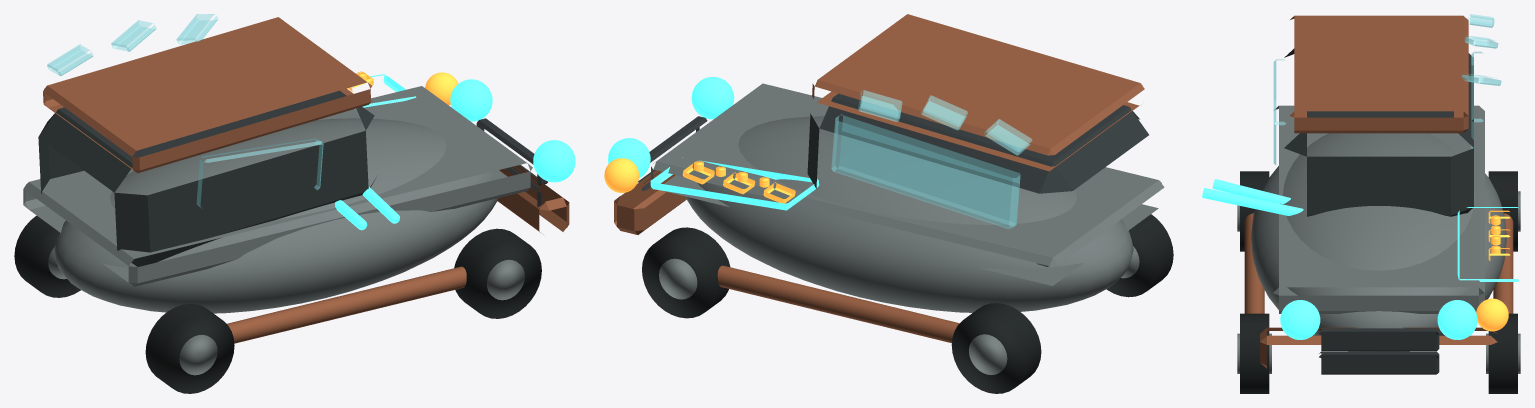
The model's file is vehicle_wreck.gltf.
3 views of the same model, side by side, from view 1: azimuth 30°, elevation 25°; view 2: azimuth 150°, elevation 25°; view 3: azimuth 270°, elevation 25° (orthographic). The views are drawn at different scales.
Visible parts, largest first — view 1: VehicleChassis, VehicleCabRoof, VehicleCab, VehicleLowerChassis, VehicleAxle01, VehicleWheel02, VehicleWheel03, VehicleWheel00, VehicleFrontBumper, VehicleHeadlampR, VehicleHeadlampL, VehicleWheelHub02 (+8 smaller); view 2: VehicleChassis, VehicleCabRoof, VehicleLowerChassis, VehicleCab, VehicleWindshield, VehicleAxle00, VehicleWheel00, VehicleWheel01, VehicleWheel02, VehicleFrontBumper, VehicleServicePanel, VehicleHeadlampR (+8 smaller); view 3: VehicleChassis, VehicleCabRoof, VehicleLowerChassis, VehicleCab, VehicleFrontGrilleLower, VehicleFrontGrilleUpper, VehicleWheel03, VehicleWheel01, VehicleFrontBumper, VehicleAxle01, VehicleHeadlampR, VehicleHeadlampL (+12 smaller).
Boxes of the visible parts, left/top/right/bottom form: VehicleChassis: left=54, top=118, right=499, bottom=313; VehicleCabRoof: left=43, top=17, right=372, bottom=173; VehicleCab: left=38, top=90, right=376, bottom=266; VehicleLowerChassis: left=23, top=86, right=532, bottom=286; VehicleAxle01: left=227, top=266, right=466, bottom=343; VehicleWheel02: left=145, top=303, right=234, bottom=393; VehicleWheel03: left=454, top=228, right=541, bottom=318; VehicleWheel00: left=14, top=215, right=80, bottom=297; VehicleFrontBumper: left=497, top=165, right=569, bottom=234; VehicleHeadlampR: left=533, top=140, right=575, bottom=182; VehicleHeadlampL: left=450, top=79, right=492, bottom=121; VehicleWheelHub02: left=179, top=334, right=217, bottom=375; VehicleChassis: left=686, top=116, right=1133, bottom=312; VehicleCabRoof: left=812, top=14, right=1144, bottom=171; VehicleLowerChassis: left=651, top=83, right=1164, bottom=285; VehicleCab: left=807, top=93, right=1148, bottom=266; VehicleWindshield: left=831, top=114, right=1020, bottom=229; VehicleAxle00: left=717, top=265, right=959, bottom=343; VehicleWheel00: left=951, top=303, right=1041, bottom=393; VehicleWheel01: left=642, top=227, right=730, bottom=318; VehicleWheel02: left=1106, top=214, right=1173, bottom=297; VehicleFrontBumper: left=614, top=170, right=686, bottom=234; VehicleServicePanel: left=650, top=157, right=819, bottom=210; VehicleHeadlampR: left=691, top=77, right=734, bottom=119; VehicleChassis: left=1251, top=133, right=1506, bottom=351; VehicleCabRoof: left=1289, top=15, right=1468, bottom=133; VehicleLowerChassis: left=1273, top=105, right=1484, bottom=313; VehicleCab: left=1284, top=48, right=1473, bottom=216; VehicleFrontGrilleLower: left=1319, top=351, right=1439, bottom=374; VehicleFrontGrilleUpper: left=1319, top=328, right=1439, bottom=351; VehicleWheel03: left=1240, top=313, right=1269, bottom=393; VehicleWheel01: left=1488, top=313, right=1517, bottom=393; VehicleFrontBumper: left=1260, top=327, right=1497, bottom=368; VehicleAxle01: left=1244, top=213, right=1264, bottom=313; VehicleHeadlampR: left=1280, top=300, right=1320, bottom=339; VehicleHeadlampL: left=1437, top=300, right=1477, bottom=339.
Bounding box in the file's own units: 2.79 × 1.48 × 1.74.
